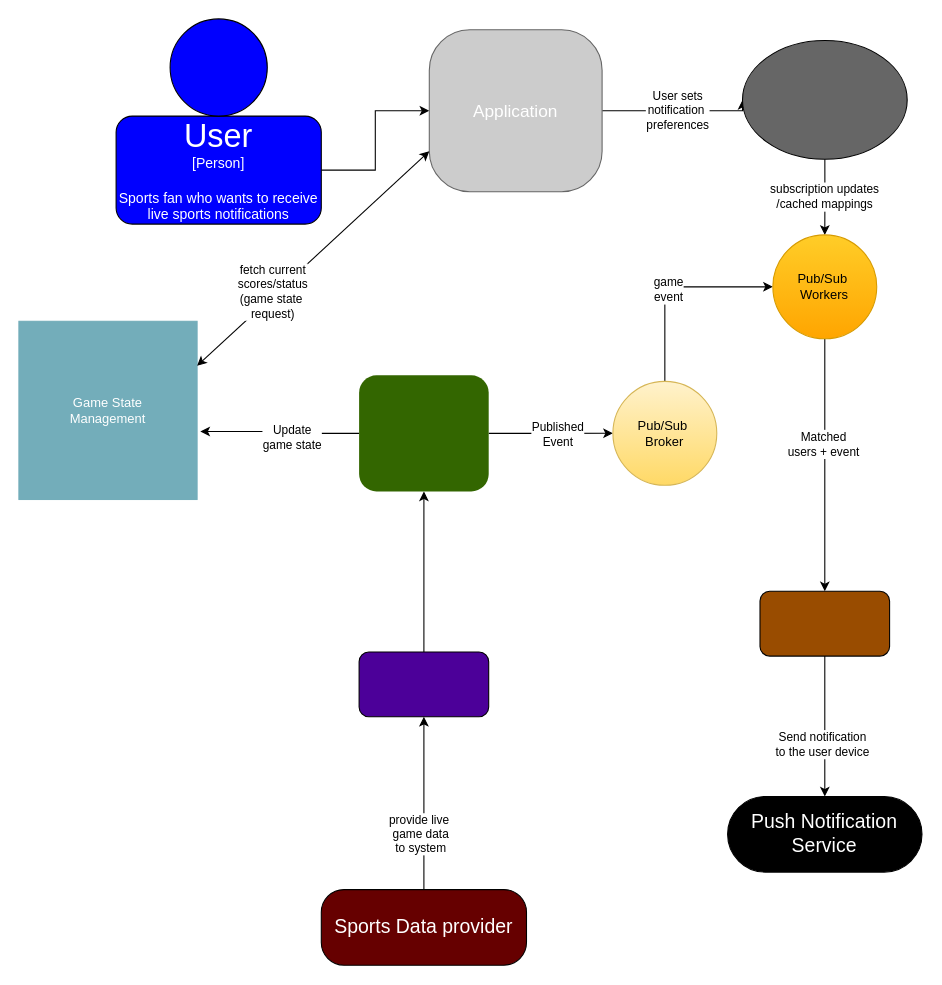
Some shapes in this 942 by 985 pixel diagram are drawn without their labels. The centre of each missing label's shape, as x and y in pixels:
"Event Ingestion Service" belongs at pixel 423 684.
"Event Processing" belongs at pixel 423 433.
"Notification Service" belongs at pixel 824 623.
"User Preference Service" belongs at pixel 824 99.
